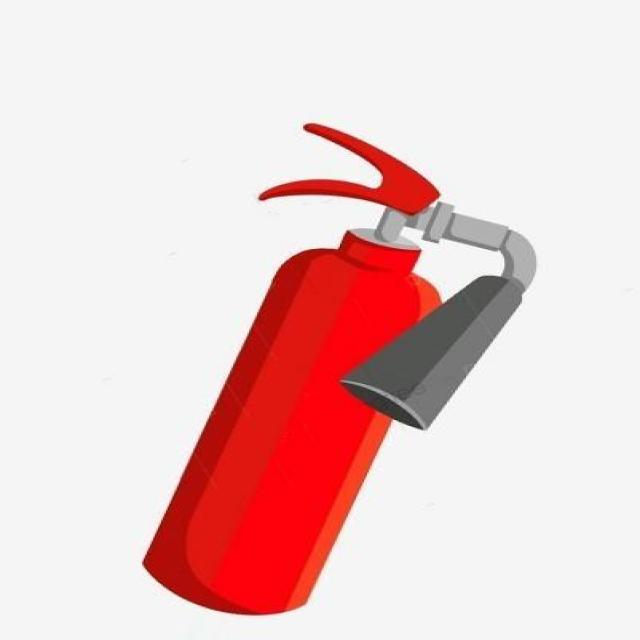fire_extinguisher: (128, 115, 548, 617)
